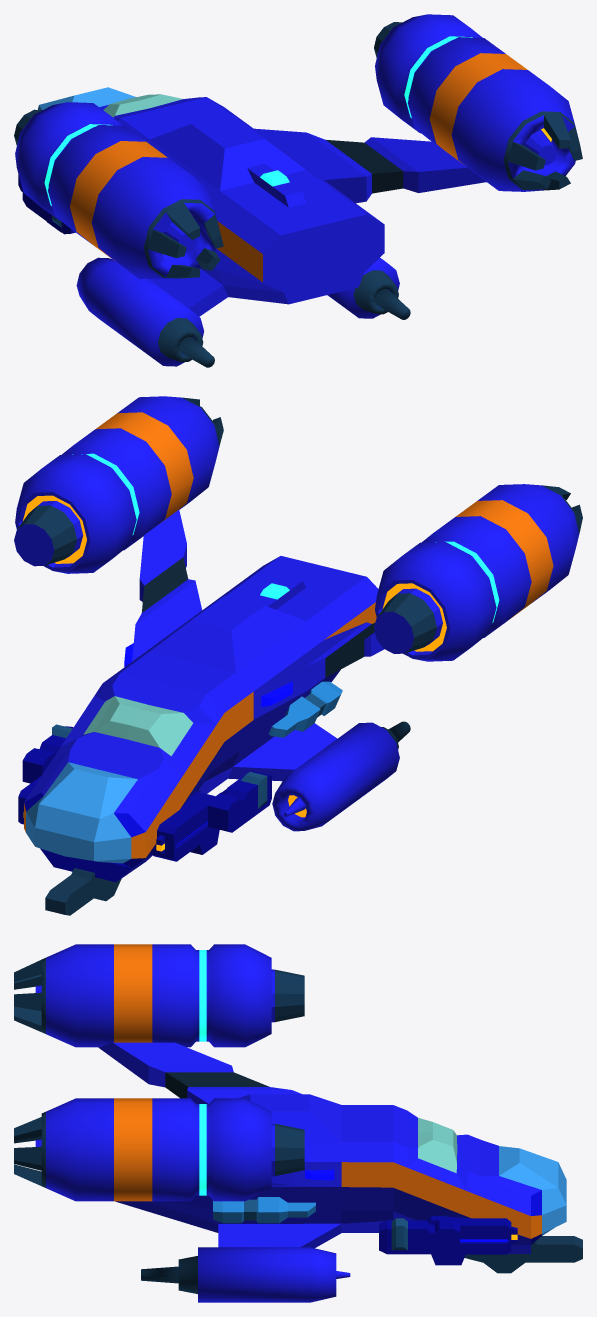
File: basic_hero.glb
3 renders of one model, top to bottom at view 1: azimuth 30°, elevation 25°; view 2: azimuth 150°, elevation 25°; view 3: azimuth 270°, elevation 25°, orthographic. The views are drawn at different scales.
Visible parts, largest first — view 1: PlayerHero; view 2: PlayerHero; view 3: PlayerHero.
Part boxes in pixels (box(x1,y1,x2,y2)): PlayerHero: box(14, 14, 582, 367); PlayerHero: box(14, 396, 582, 915); PlayerHero: box(14, 944, 582, 1302).
Bounding box in the file's own units: 2.4 × 1.38 × 2.92.
Materials: 1 (1 with a texture image).
